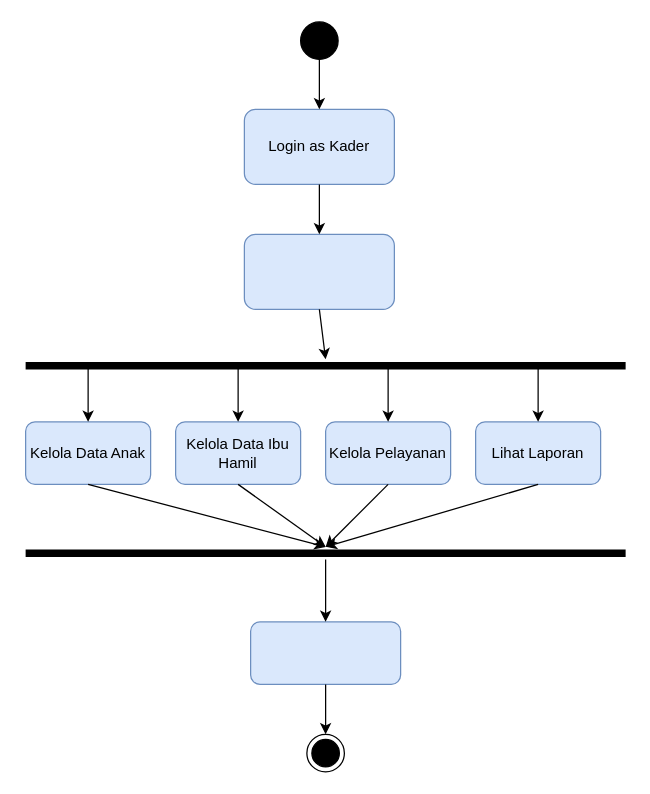
This 650x794 diagram has some shape labels left out. Each missing label, with the centre of its shape:
"Akses Dashboard Kader" goes at point (318, 271).
"Logout" goes at point (325, 652).
